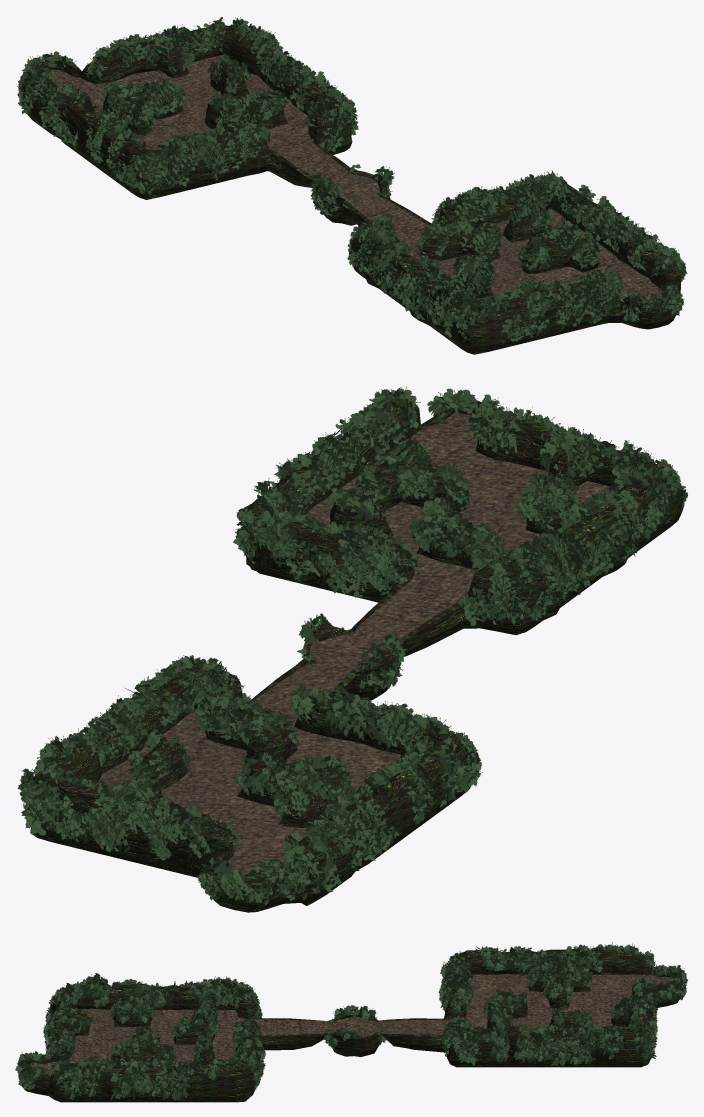
The model's file is buisson_07d_bloc.glb.
3 renders of one model, top to bottom at view 1: azimuth 30°, elevation 25°; view 2: azimuth 150°, elevation 25°; view 3: azimuth 270°, elevation 25°, orthographic. The views are drawn at different scales.
Visible parts, largest first — view 1: bloc; view 2: bloc; view 3: bloc.
Boxes of the visible parts, x1,y1,x2,y2 form: bloc: [17, 17, 687, 354]; bloc: [18, 386, 687, 912]; bloc: [15, 942, 687, 1102].
Bounding box in the file's own units: 30.14 × 6.28 × 65.52.
3 materials, 3 textured.
